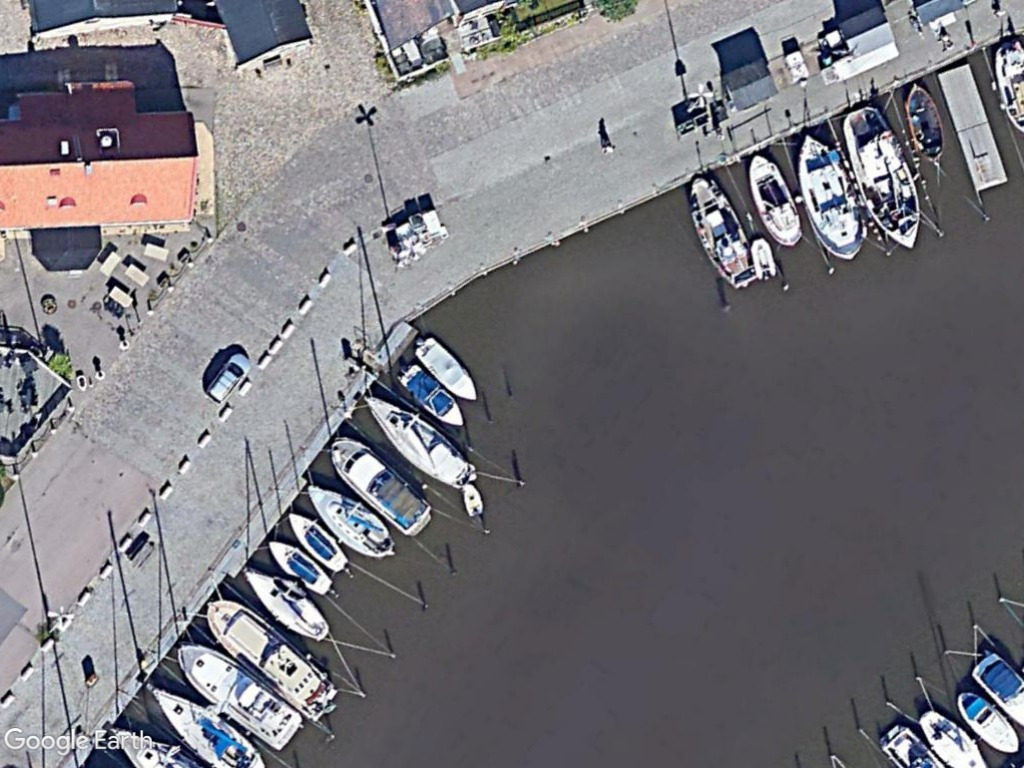boat: (203, 595, 343, 727), (169, 639, 305, 749), (842, 100, 924, 255), (359, 392, 475, 489), (330, 434, 434, 540), (145, 680, 269, 768), (793, 130, 867, 260), (688, 170, 763, 291), (297, 478, 399, 563), (239, 562, 331, 649), (745, 148, 804, 249), (410, 337, 484, 408), (954, 686, 1024, 759), (396, 361, 469, 431), (280, 507, 349, 575), (261, 535, 335, 597), (900, 80, 949, 167), (746, 233, 780, 283)
van: (202, 346, 253, 406)
